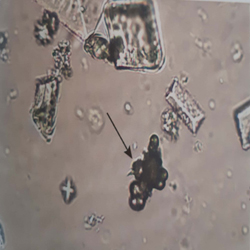Crystal: (100, 1, 169, 77), (128, 130, 167, 214), (164, 73, 209, 133), (31, 69, 63, 144), (83, 29, 110, 69), (235, 88, 250, 158), (33, 9, 60, 45), (57, 172, 80, 204)
